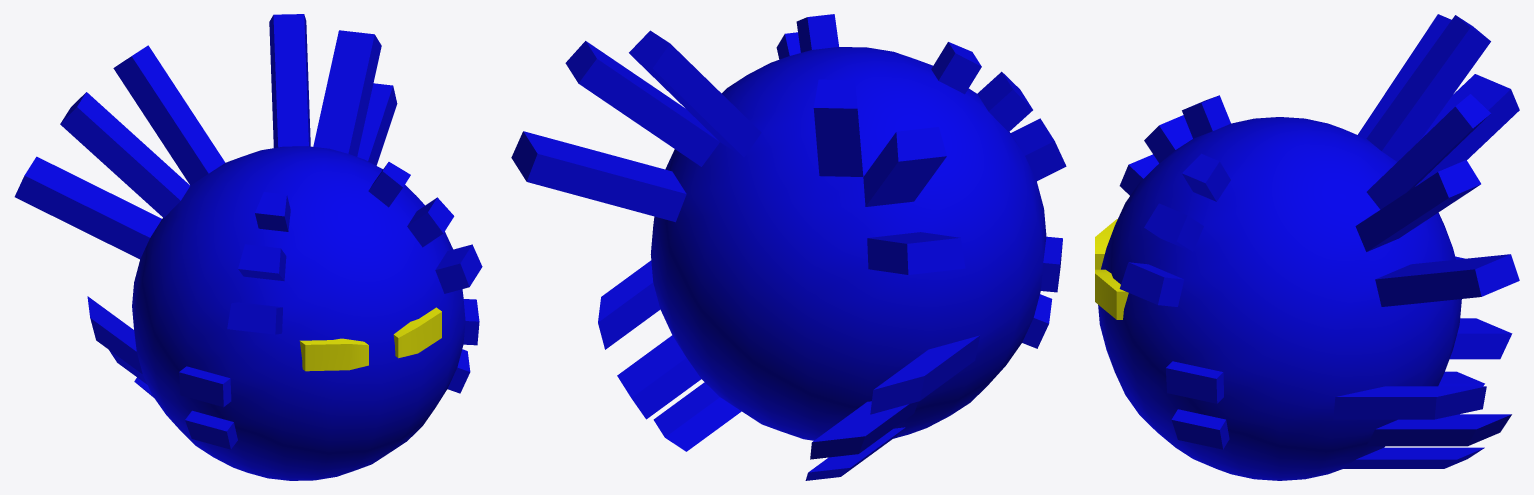
Rendered from enemy_boss.fbx.
The picture shows the model from 3 angles, left to right: view 1: azimuth 30°, elevation 25°; view 2: azimuth 150°, elevation 25°; view 3: azimuth 270°, elevation 25°; orthographic projection. The views are drawn at different scales.
Parts seen in each view (by area): view 1: pSphere1, pCube1; view 2: pSphere1; view 3: pSphere1, pCube1.
Part boxes in pixels (x1,y1,x2,y2): pSphere1: (14,14,482,480); pCube1: (299,307,441,371); pSphere1: (511,14,1066,480); pSphere1: (1098,14,1519,480); pCube1: (1095,219,1128,319).
Bounding box in the file's own units: 1.57 × 1.43 × 1.39.
